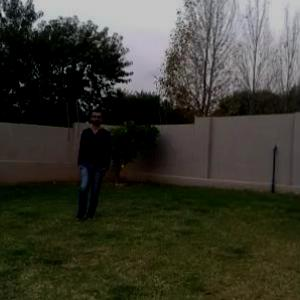follow: (78, 111, 104, 219)
